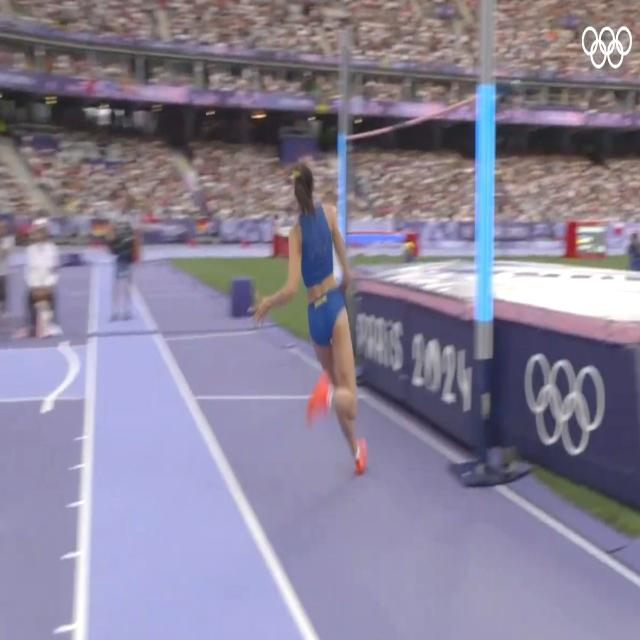run: (263, 164, 375, 474)
